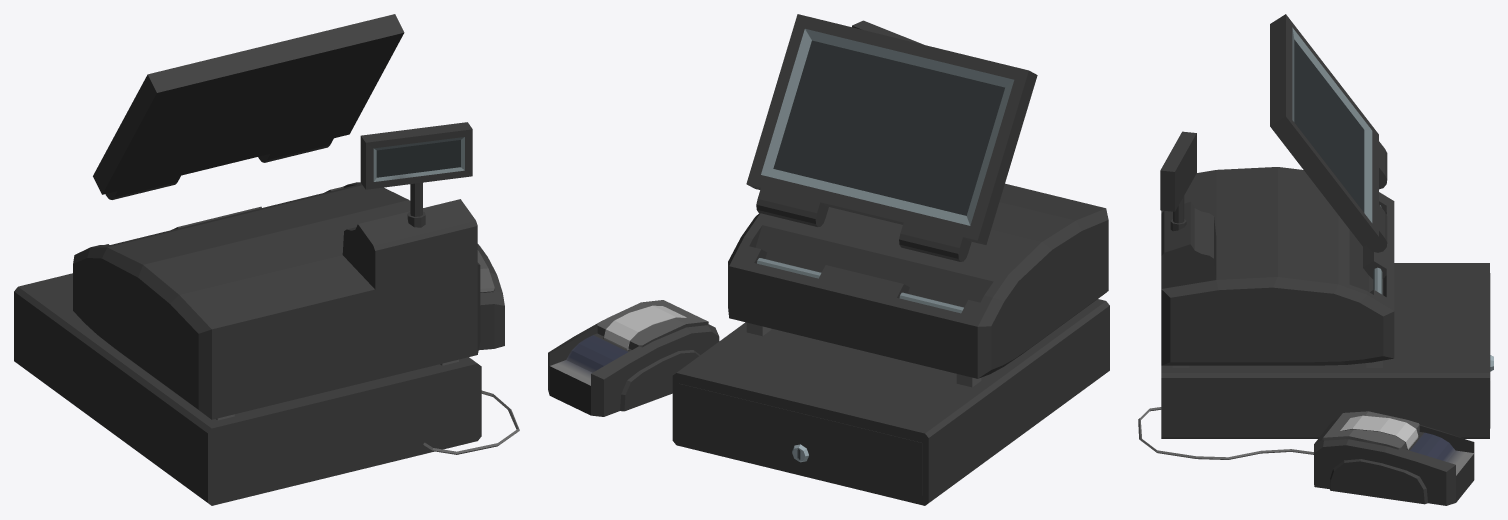
File: cash register.fbx
3 renders of one model, left to right at view 1: azimuth 30°, elevation 25°; view 2: azimuth 150°, elevation 25°; view 3: azimuth 270°, elevation 25°, orthographic. The views are drawn at different scales.
Visible parts, largest first — view 1: cash register; view 2: cash register, Open; view 3: cash register.
Part boxes in pixels (x1=…): cash register: x1=14, y1=14, x2=519, y2=505; cash register: x1=548, y1=14, x2=1109, y2=505; Open: x1=678, y1=383, x2=922, y2=495; cash register: x1=1138, y1=14, x2=1489, y2=505.
Bounding box in the file's own units: 47.84 × 39.29 × 39.76.
Materials: 1 (1 with a texture image).
